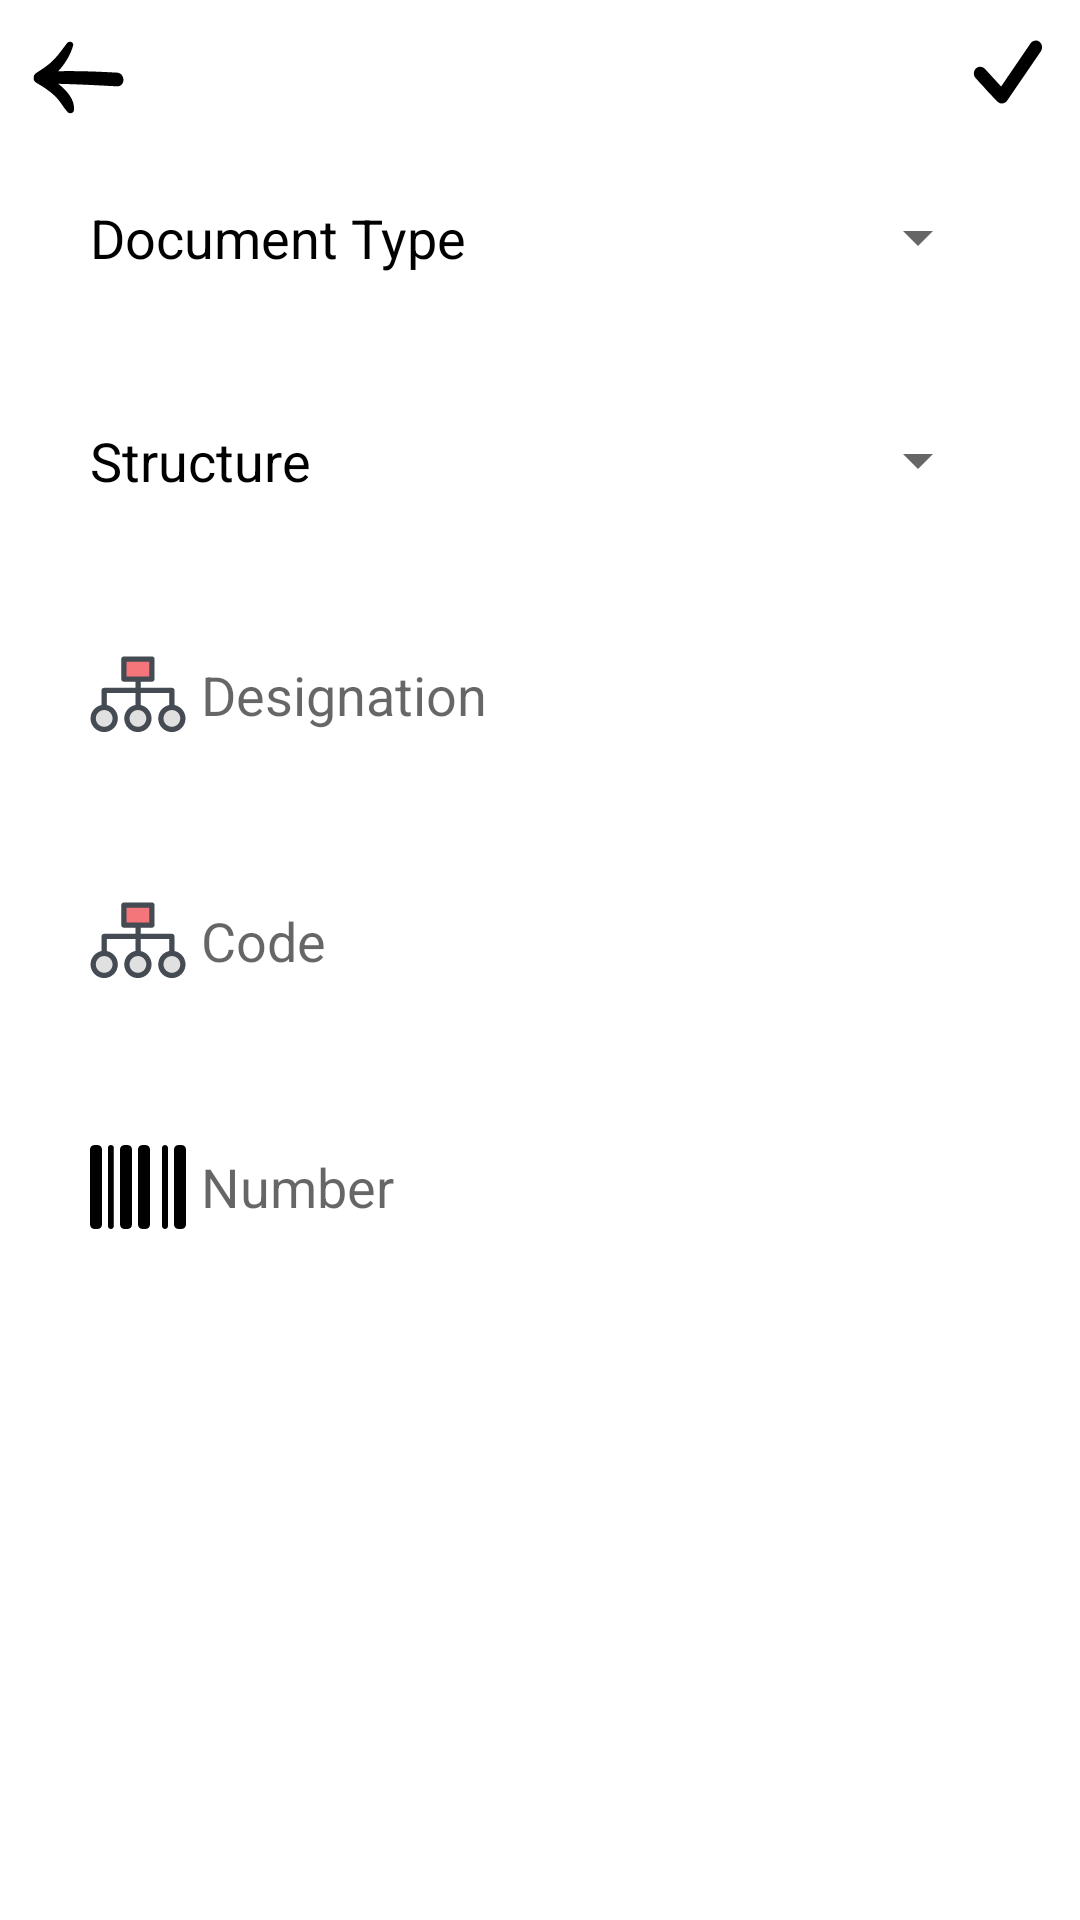

Where to tap for icons on this 1080px×1920px app screen, as point (x, y):
back: point (78, 77)
check: point (1007, 72)
